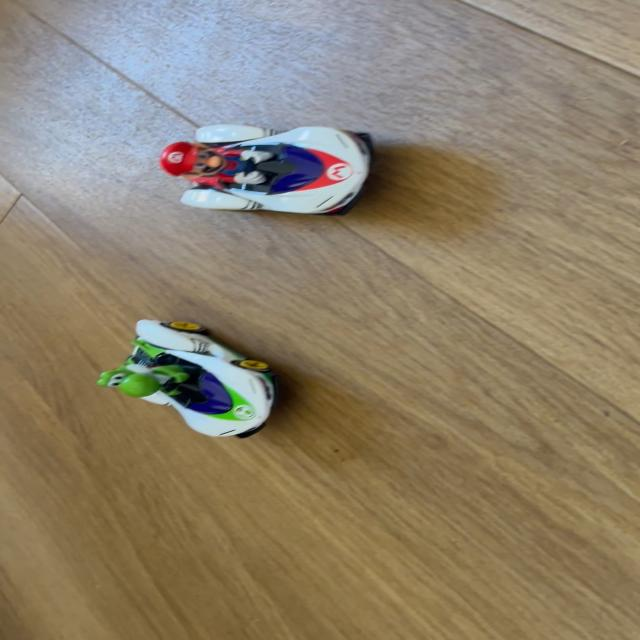mario: (152, 115, 393, 223)
yoshi: (80, 312, 297, 446)
